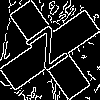Z: (25, 25, 76, 80)
